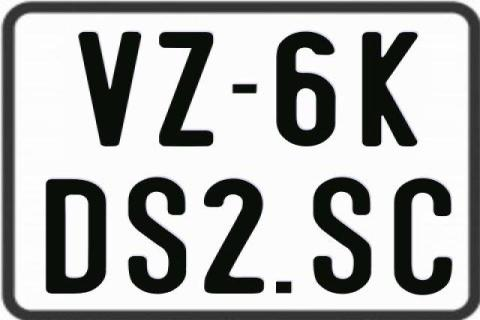0: (203, 176, 269, 296), (276, 29, 338, 145)
C: (392, 178, 451, 296)
D: (43, 180, 110, 294)
K: (362, 31, 421, 147)
S: (126, 175, 190, 293), (310, 176, 372, 296)
V: (80, 32, 146, 146)
Z: (159, 32, 213, 151)
